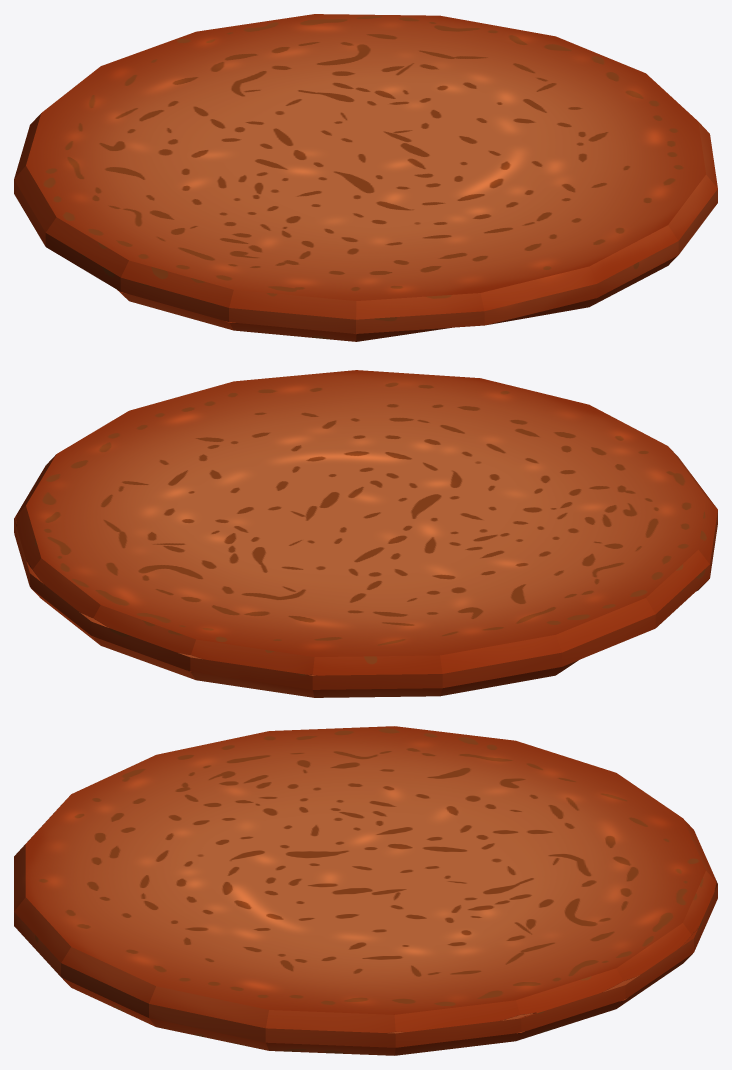
The model's file is hamburguinho cruzinho.dae.
3 renders of one model, top to bottom at view 1: azimuth 30°, elevation 25°; view 2: azimuth 150°, elevation 25°; view 3: azimuth 270°, elevation 25°, orthographic.
Visible parts, largest first — view 1: Circle; view 2: Circle; view 3: Circle.
Part boxes in pixels (left/top/right/bottom): Circle: left=14, top=14, right=717, bottom=341; Circle: left=14, top=370, right=717, bottom=697; Circle: left=14, top=726, right=717, bottom=1055.
Size of the model in its own units: 2.06 by 2.05 by 0.1318.
1 material, 1 textured.
